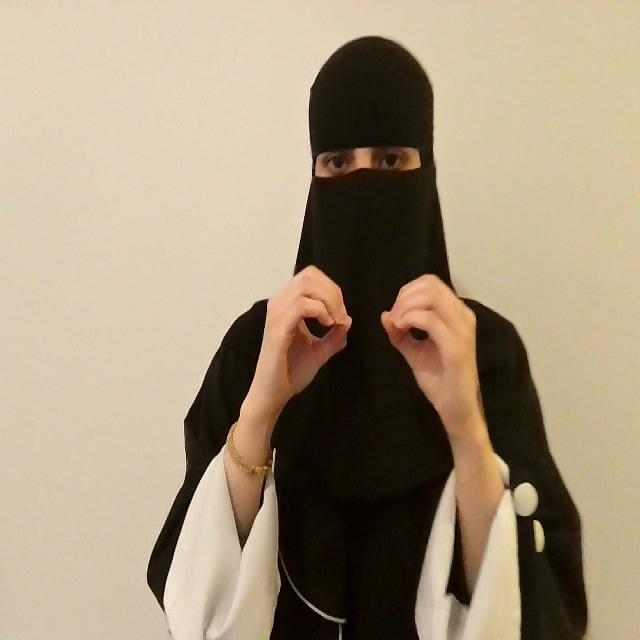analysis: (258, 263, 494, 444)
